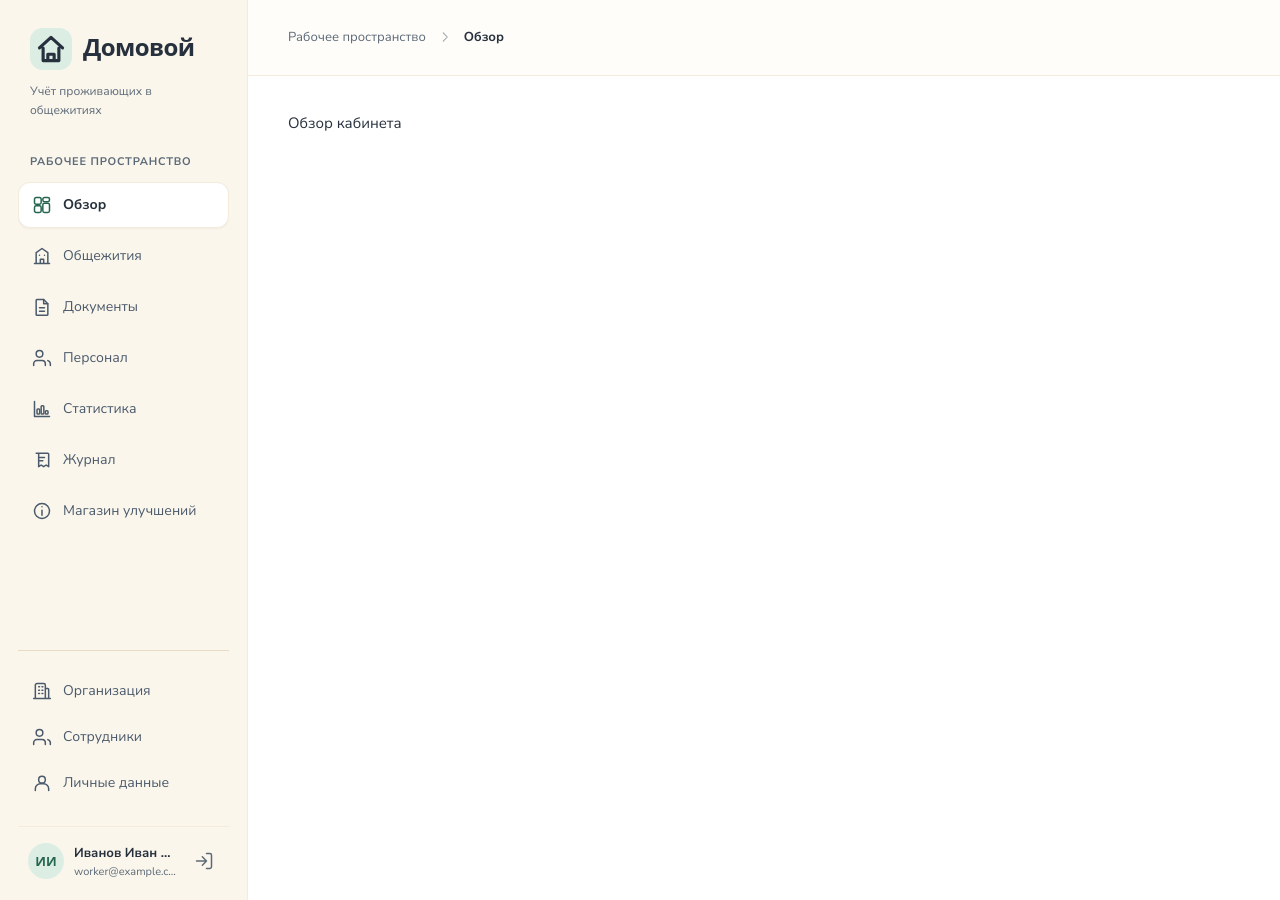
пункт меню «Журнал» › появляется у владельца с правом и ведёт на свой адрес
Step 1. Click the link with test id "workspace-nav-journal" → (74, 460), box x1=32 y1=450 x2=116 y2=470
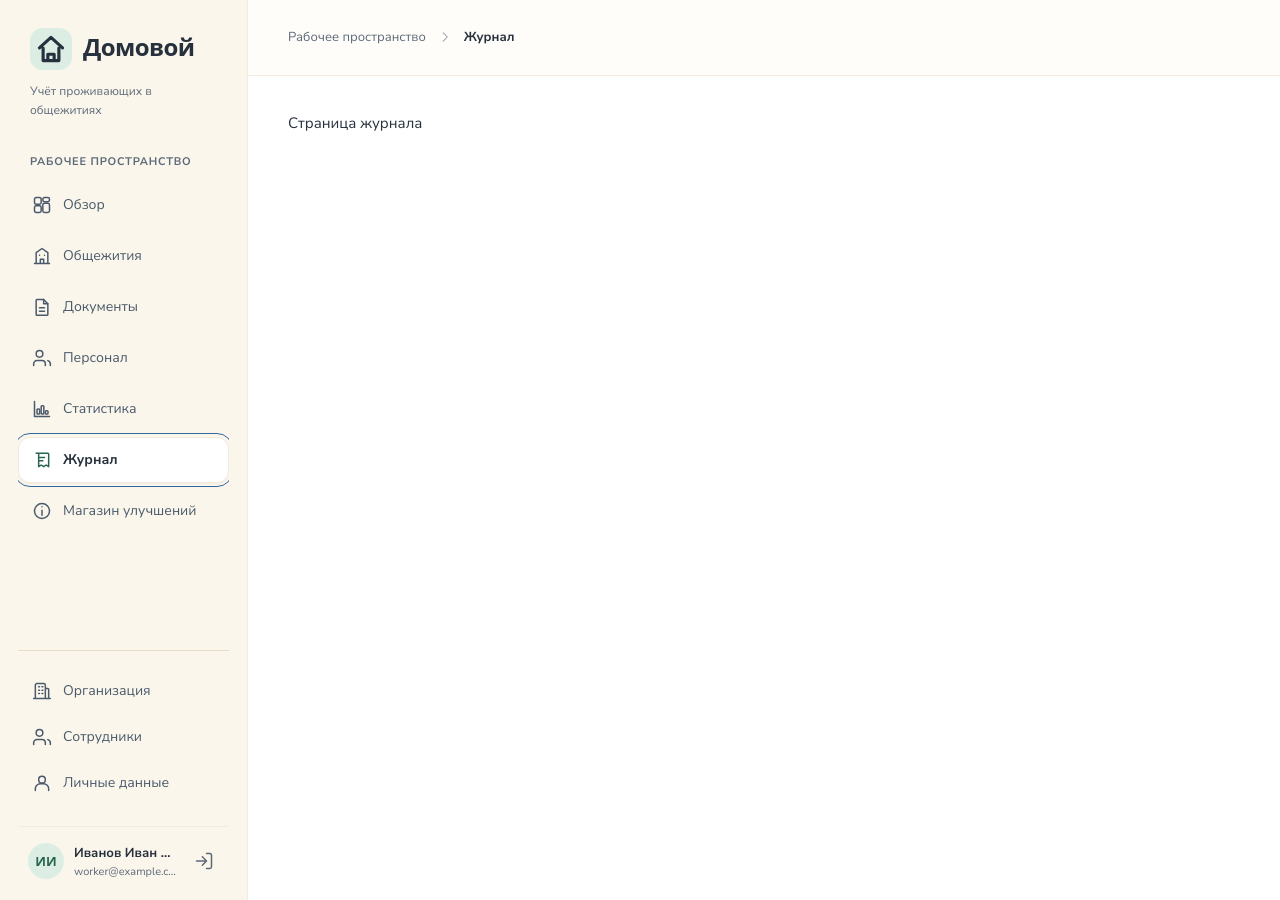
Now the text "Страница журнала" is shown, box x1=288 y1=113 x2=422 y2=133
